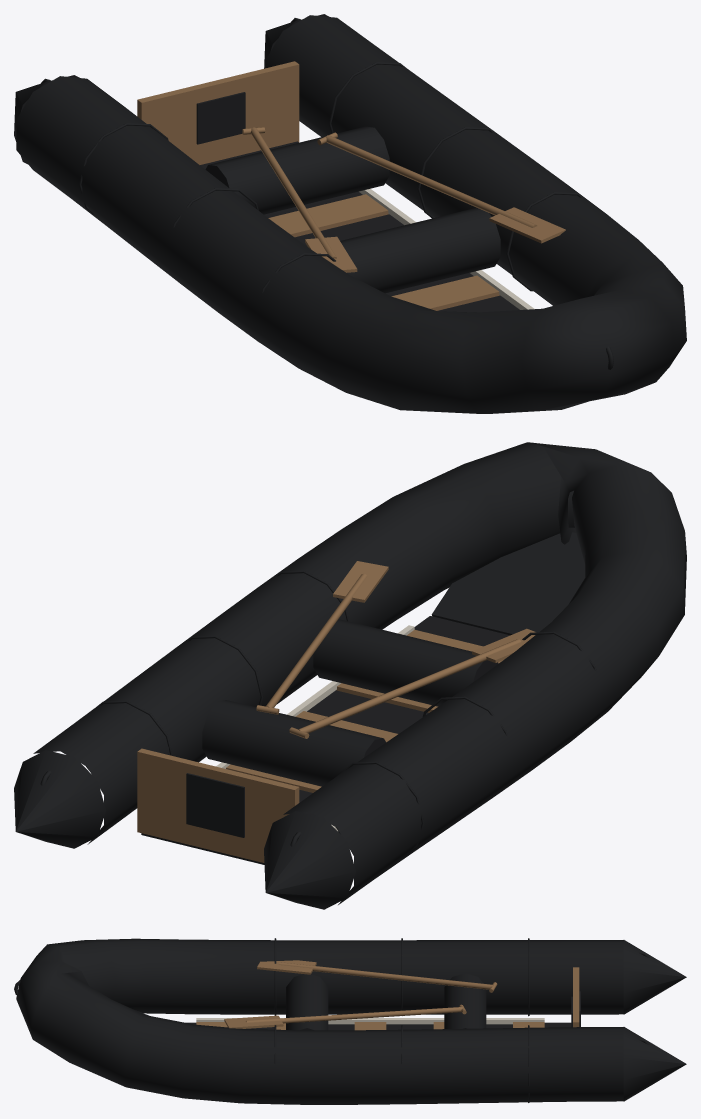
Rendered from small-inflatable-rubber-raiding.glb.
The picture shows the model from 3 angles, top to bottom: view 1: azimuth 30°, elevation 25°; view 2: azimuth 150°, elevation 25°; view 3: azimuth 270°, elevation 25°; orthographic projection. The views are drawn at different scales.
Parts seen in each view (by area): view 1: Mesh_Collar, Mesh_Transom, Mesh_ThwartFront, Mesh_ThwartRear, Mesh_FloorMembrane, Mesh_Slat_1, Mesh_MotorPlateInner, Mesh_Slat_3, Mesh_Paddle1_Shaft, Mesh_Paddle1_Blade, Mesh_Paddle2_Shaft, Mesh_StringerL (+1 smaller); view 2: Mesh_Collar, Mesh_BowMembrane, Mesh_Transom, Mesh_ThwartRear, Mesh_ThwartFront, Mesh_SternConeR, Mesh_SternConeL, Mesh_FloorMembrane, Mesh_MotorPlateOuter, Mesh_Paddle2_Shaft, Mesh_Paddle1_Shaft, Mesh_Paddle1_Blade (+3 smaller); view 3: Mesh_Collar, Mesh_SternConeR, Mesh_SternConeL, Mesh_ThwartFront, Mesh_ThwartRear, Mesh_Paddle2_Shaft, Mesh_Paddle1_Shaft, Mesh_StringerR, Mesh_FloorMembrane, Mesh_Paddle2_Blade, Mesh_Paddle1_Blade, Mesh_Transom (+1 smaller).
Part boxes in pixels (x1,y1,x2,y2): Mesh_Collar: [16, 15, 686, 413]; Mesh_Transom: [137, 61, 299, 164]; Mesh_ThwartFront: [340, 207, 500, 293]; Mesh_ThwartRear: [205, 126, 389, 214]; Mesh_FloorMembrane: [200, 141, 519, 312]; Mesh_Slat_1: [268, 194, 388, 237]; Mesh_MotorPlateInner: [196, 92, 245, 144]; Mesh_Slat_3: [391, 275, 499, 310]; Mesh_Paddle1_Shaft: [326, 135, 537, 227]; Mesh_Paddle1_Blade: [489, 207, 565, 243]; Mesh_Paddle2_Shaft: [250, 127, 336, 258]; Mesh_StringerL: [359, 188, 534, 309]; Mesh_Collar: [33, 442, 686, 904]; Mesh_BowMembrane: [431, 532, 585, 635]; Mesh_Transom: [137, 748, 299, 862]; Mesh_ThwartRear: [202, 700, 385, 786]; Mesh_ThwartFront: [313, 619, 498, 706]; Mesh_SternConeR: [264, 811, 355, 909]; Mesh_SternConeL: [14, 750, 106, 848]; Mesh_FloorMembrane: [141, 616, 509, 864]; Mesh_MotorPlateOuter: [186, 773, 244, 837]; Mesh_Paddle2_Shaft: [298, 639, 521, 736]; Mesh_Paddle1_Shaft: [266, 573, 367, 707]; Mesh_Paddle1_Blade: [333, 561, 388, 602]; Mesh_Collar: [16, 938, 623, 1104]; Mesh_SternConeR: [623, 940, 686, 1014]; Mesh_SternConeL: [623, 1027, 686, 1101]; Mesh_ThwartFront: [286, 974, 328, 1030]; Mesh_ThwartRear: [444, 973, 486, 1028]; Mesh_Paddle2_Shaft: [278, 962, 493, 989]; Mesh_Paddle1_Shaft: [246, 1007, 463, 1023]; Mesh_StringerR: [196, 1018, 544, 1024]; Mesh_FloorMembrane: [186, 1022, 571, 1030]; Mesh_Paddle2_Blade: [257, 960, 316, 974]; Mesh_Paddle1_Blade: [224, 1015, 283, 1028]; Mesh_Transom: [573, 967, 579, 1027].
Size of the model in its own units: 1.8 by 0.6727 by 4.25.
